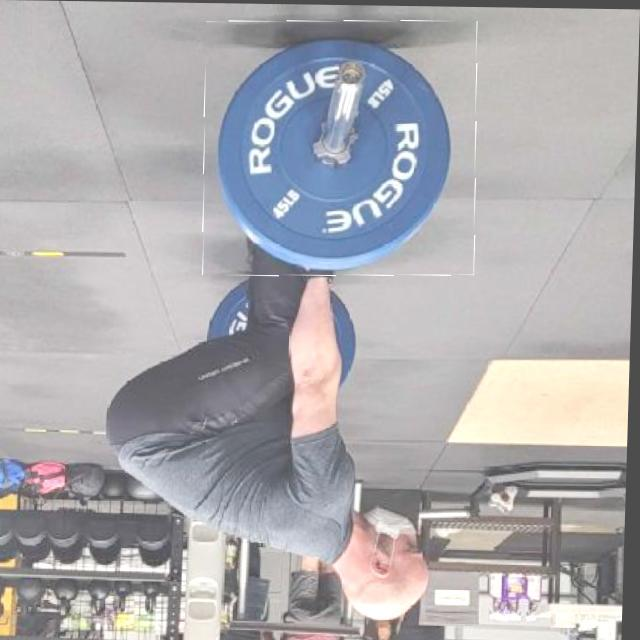barbell: (203, 18, 482, 278)
